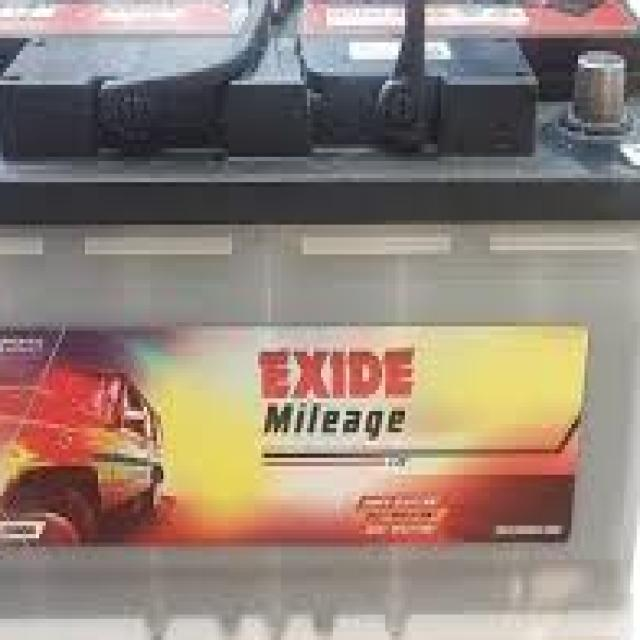organic: (5, 38, 640, 620)
